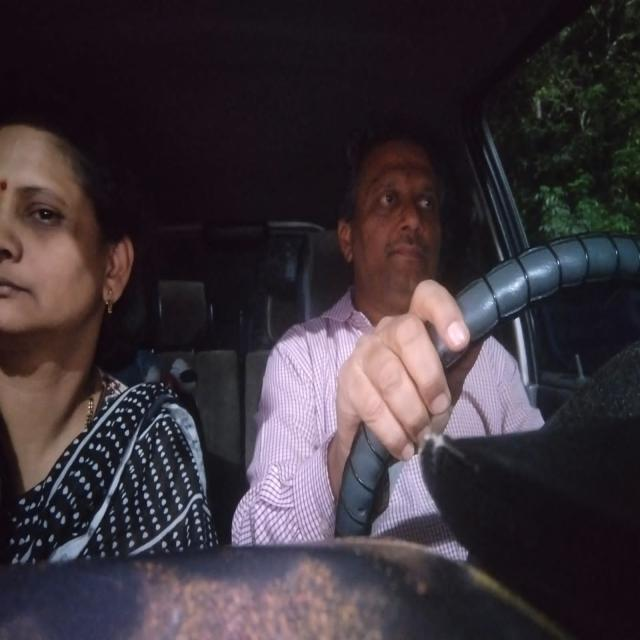person: (0, 113, 141, 354), (333, 112, 452, 304)
